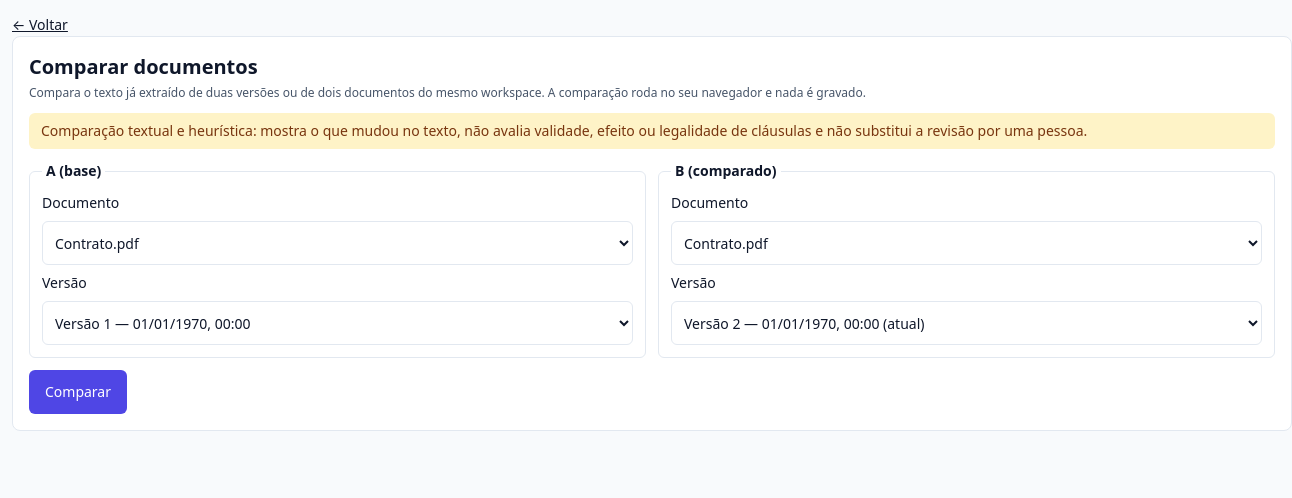
Test case: ComparePage › lado sem texto extraído: mensagem clara, sem resultado
Click the button "Comparar" at (78, 392), box [29,370,127,414]
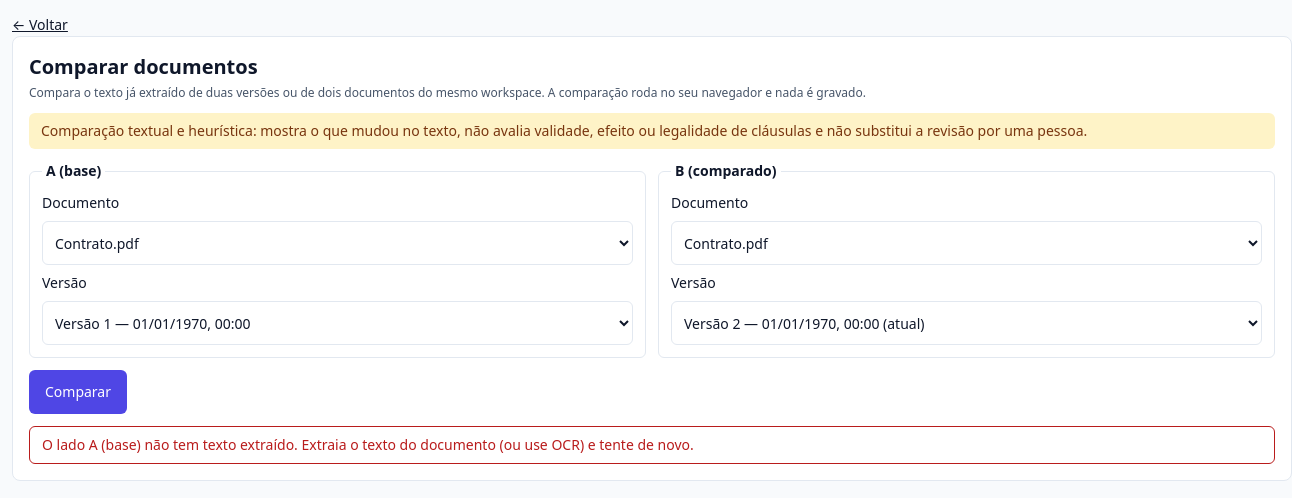
Check: the text "não tem texto extraído" is shown, box [42,435,694,454]
